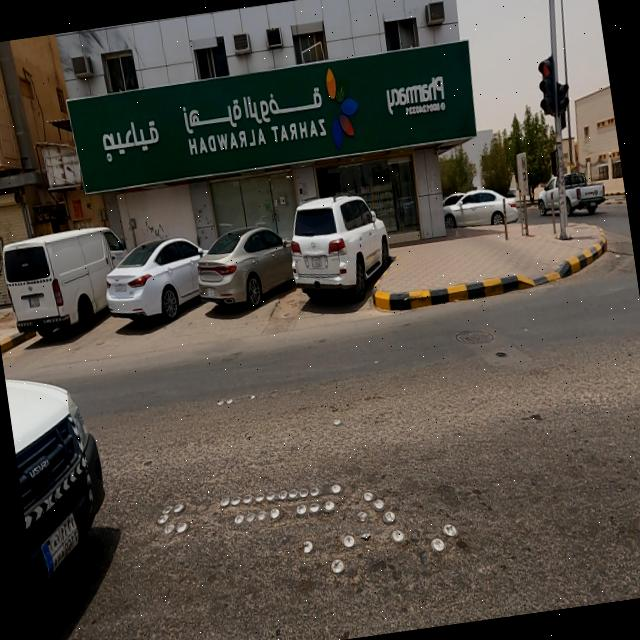Graffiti: (144, 219, 171, 244), (1, 231, 8, 284)
